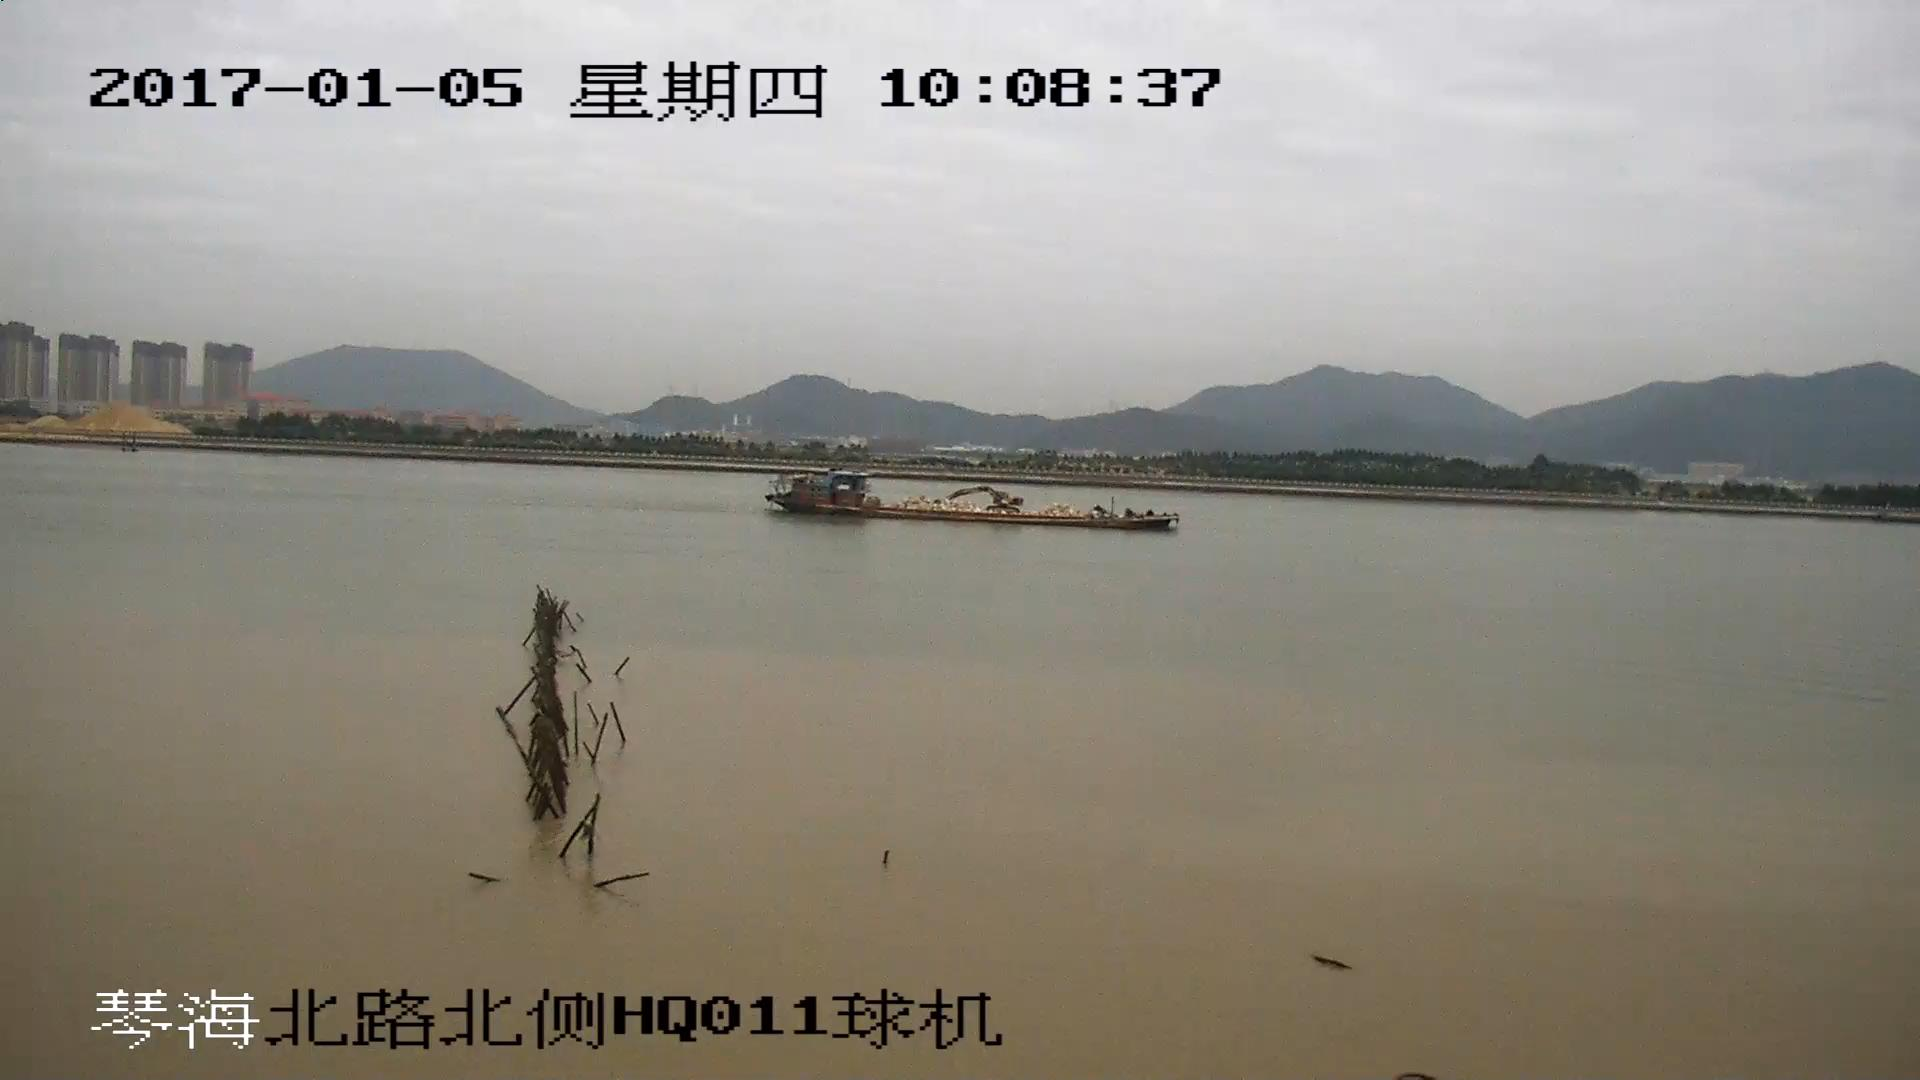bulk cargo carrier: (766, 469, 1175, 529)
